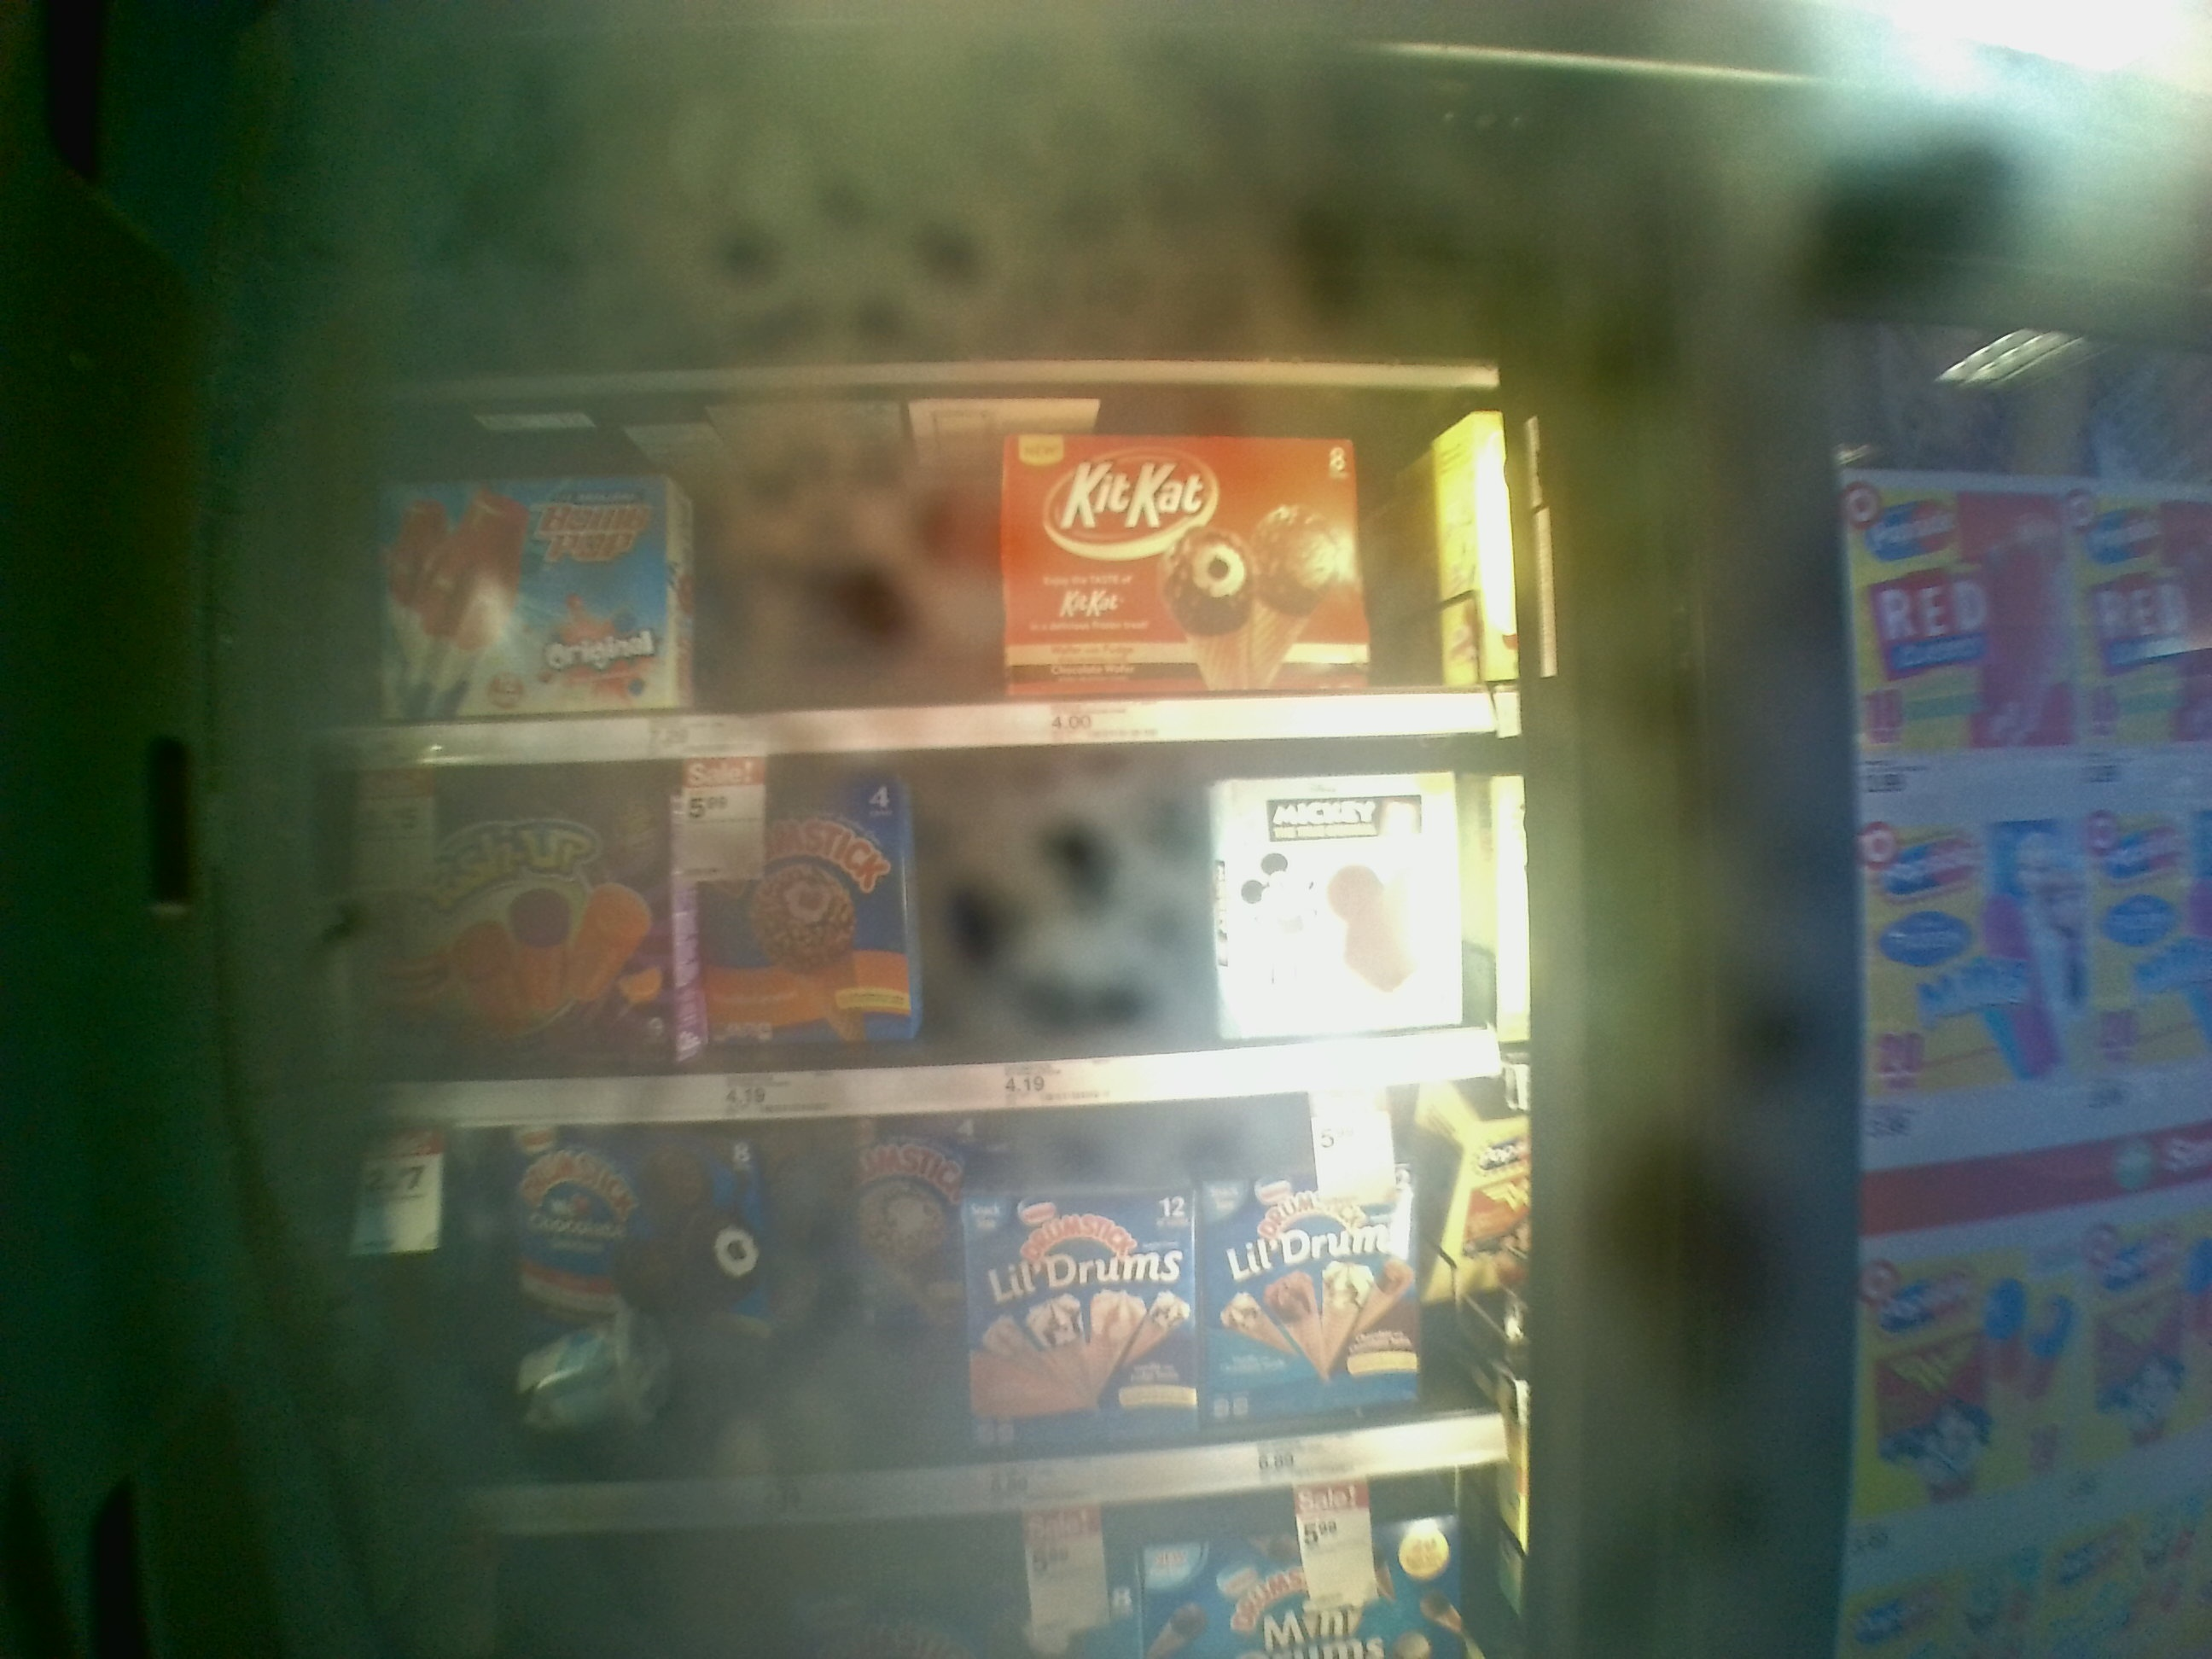shelf: (334, 1068, 1548, 1539), (331, 727, 1541, 1127), (319, 382, 1536, 762)
